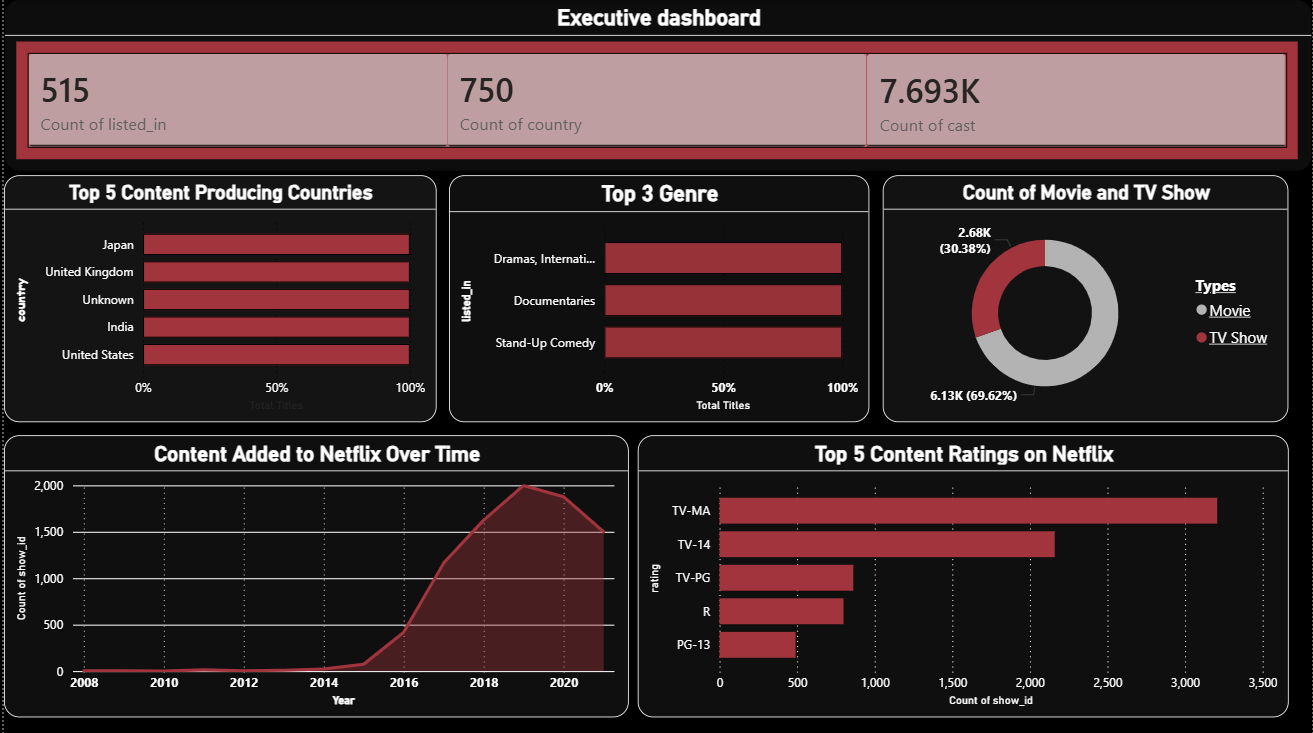

The dashboard page shown, as its layout file describes it:
{"tool":"powerbi","page":{"name":"Executive Dashboard","canvas":[1280,720],"ordinal":0},"visuals":[{"type":"donutChart","title":"Count of Movie and TV Show","fields":{"Category":["netflix_dashboard_ready.type"],"Y":["CountNonNull(netflix_dashboard_ready.title)"]},"box":[860,172.9,397.1,241.4],"z":0},{"type":"lineChart","title":"Content Added to Netflix Over Time","fields":{"Category":["netflix_dashboard_ready.date_added.Variation.Date Hierarchy.Year","netflix_dashboard_ready.date_added.Variation.Date Hierarchy.Quarter","netflix_dashboard_ready.date_added.Variation.Date Hierarchy.Month","netflix_dashboard_ready.date_added.Variation.Date Hierarchy.Day"],"Y":["CountNonNull(netflix_dashboard_ready.show_id)"]},"box":[0,427.1,611.4,275.7],"z":1000},{"type":"hundredPercentStackedBarChart","title":"Top 3 Genre","fields":{"Category":["netflix_dashboard_ready.listed_in"],"Y":["netflix_dashboard_ready.Total Titles"]},"box":[435.7,172.9,411.4,241.4],"z":2000},{"type":"clusteredBarChart","title":"Top 5 Content Ratings on Netflix","fields":{"Category":["netflix_dashboard_ready.rating"],"Y":["CountNonNull(netflix_dashboard_ready.show_id)"]},"box":[620,427.1,637.1,275.7],"z":3000},{"type":"hundredPercentStackedBarChart","title":"Top 5 Content Producing Countries","fields":{"Category":["netflix_dashboard_ready.country"],"Y":["netflix_dashboard_ready.Total Titles"]},"box":[0,172.9,422.9,241.4],"z":4000},{"type":"cardVisual","title":"Executive dashboard ","fields":{"Data":["Count(netflix_dashboard_ready.listed_in)","Count(netflix_dashboard_ready.country)","Count(netflix_dashboard_ready.cast)"]},"box":[0,0,1280,168.8],"z":5000}]}

Visuals, with their boxes in screenshot pixels (x1, y1, x2, y2), scaled from the page's 1280x720 canvas onto the 1313x733 screenshot:
"Count of Movie and TV Show" donutChart: <bbox>882, 176, 1290, 422</bbox>
"Content Added to Netflix Over Time" lineChart: <bbox>0, 435, 627, 715</bbox>
"Top 3 Genre" hundredPercentStackedBarChart: <bbox>447, 176, 869, 422</bbox>
"Top 5 Content Ratings on Netflix" clusteredBarChart: <bbox>636, 435, 1290, 715</bbox>
"Top 5 Content Producing Countries" hundredPercentStackedBarChart: <bbox>0, 176, 434, 422</bbox>
"Executive dashboard " cardVisual: <bbox>0, 0, 1312, 172</bbox>
